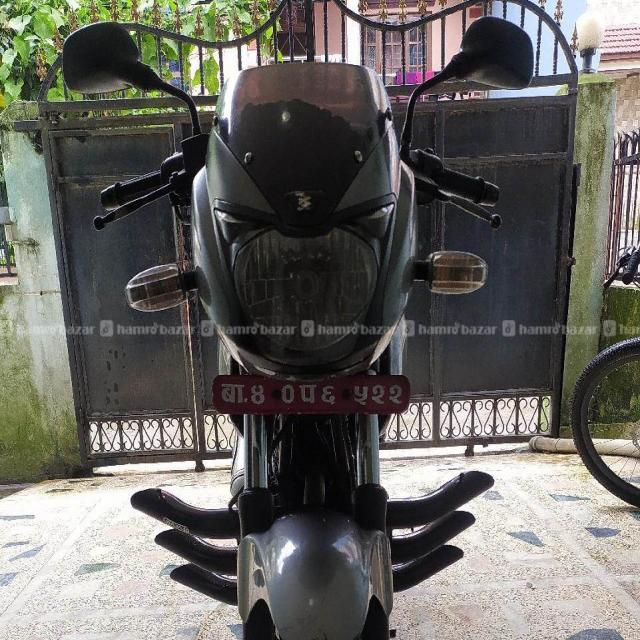License-plate: (206, 372, 412, 416)
